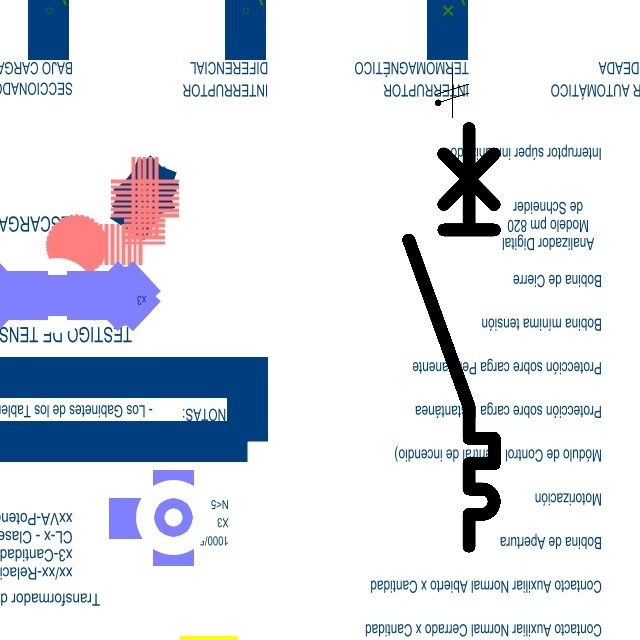interruptor_termomagnetico: (398, 117, 505, 556)
